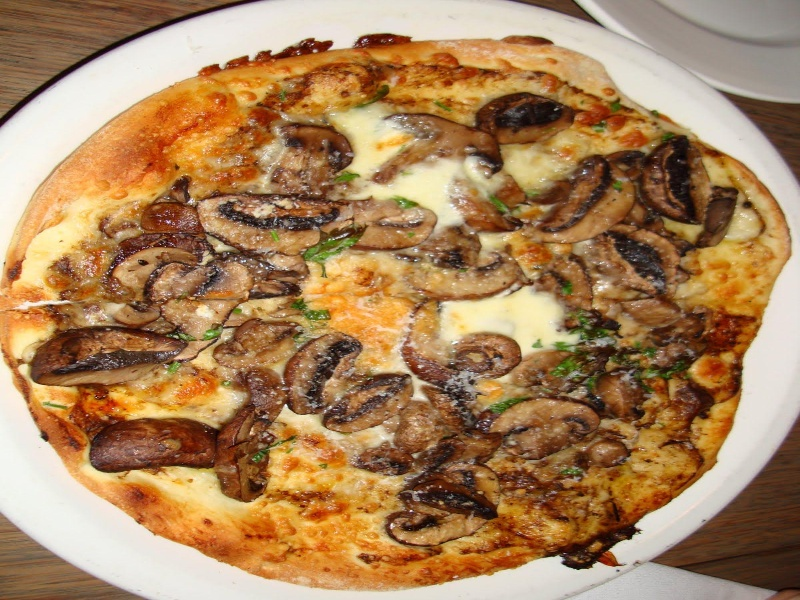champignon: (364, 107, 506, 204), (192, 189, 357, 259), (378, 460, 506, 549), (526, 153, 637, 249), (483, 396, 611, 464), (281, 325, 369, 419), (266, 123, 363, 203), (635, 133, 712, 232), (321, 369, 414, 441)
